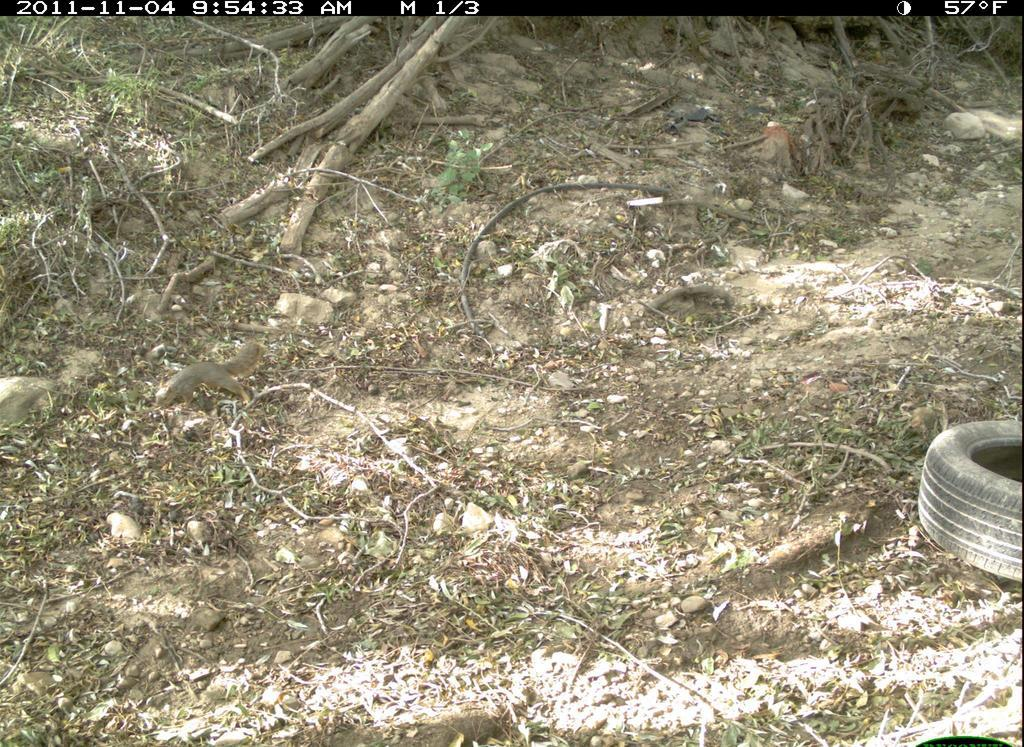squirrel: (150, 340, 269, 411)
